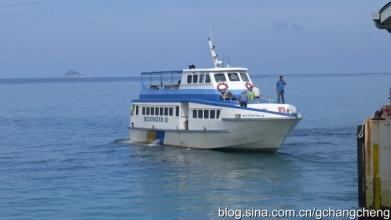yacht: (121, 27, 301, 155)
